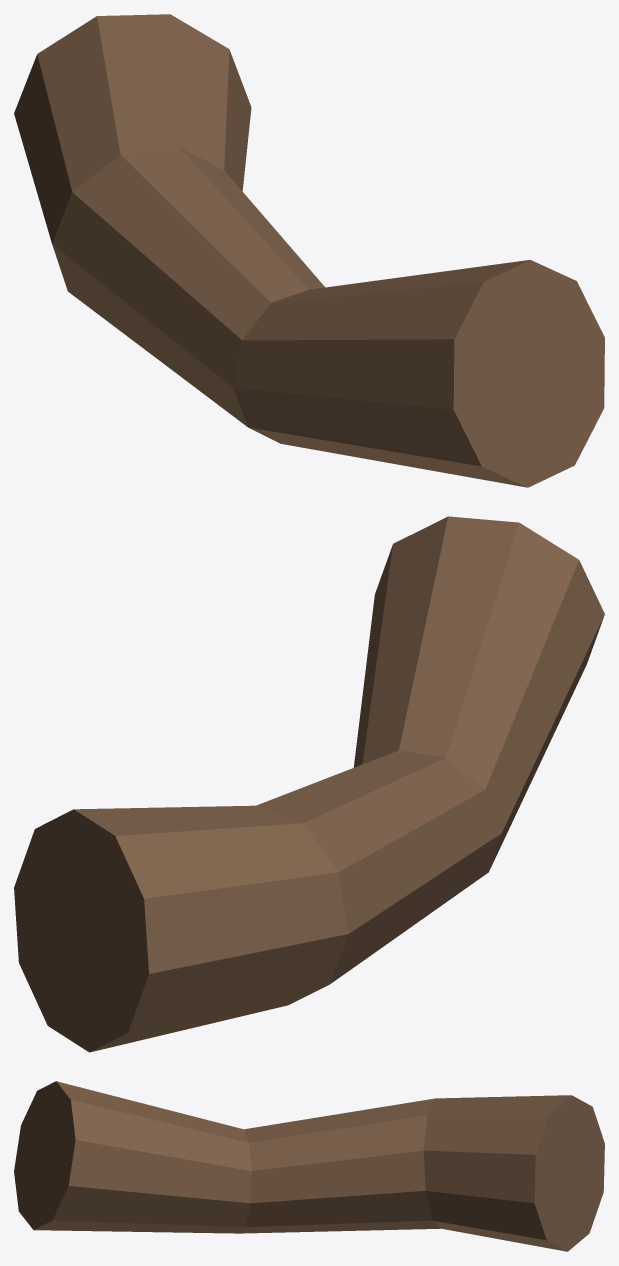
The model's file is Root_Tree_Base_Blockout.glb.
3 views of the same model, one above another, from view 1: azimuth 30°, elevation 25°; view 2: azimuth 150°, elevation 25°; view 3: azimuth 270°, elevation 25° (orthographic). The views are drawn at different scales.
Parts seen in each view (by area): view 1: Root_Tree_Base_Blockout.001; view 2: Root_Tree_Base_Blockout.001; view 3: Root_Tree_Base_Blockout.001.
Boxes of the visible parts, bbox=[...] form: Root_Tree_Base_Blockout.001: bbox=[14, 14, 604, 487]; Root_Tree_Base_Blockout.001: bbox=[14, 516, 604, 1052]; Root_Tree_Base_Blockout.001: bbox=[14, 1081, 604, 1251].
Bounding box in the file's own units: 3.07 × 2.71 × 9.01.
